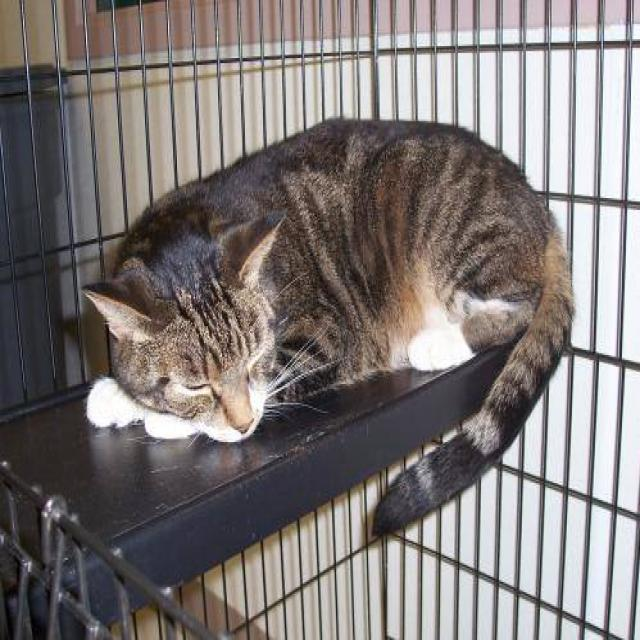cat: (80, 115, 574, 540)
